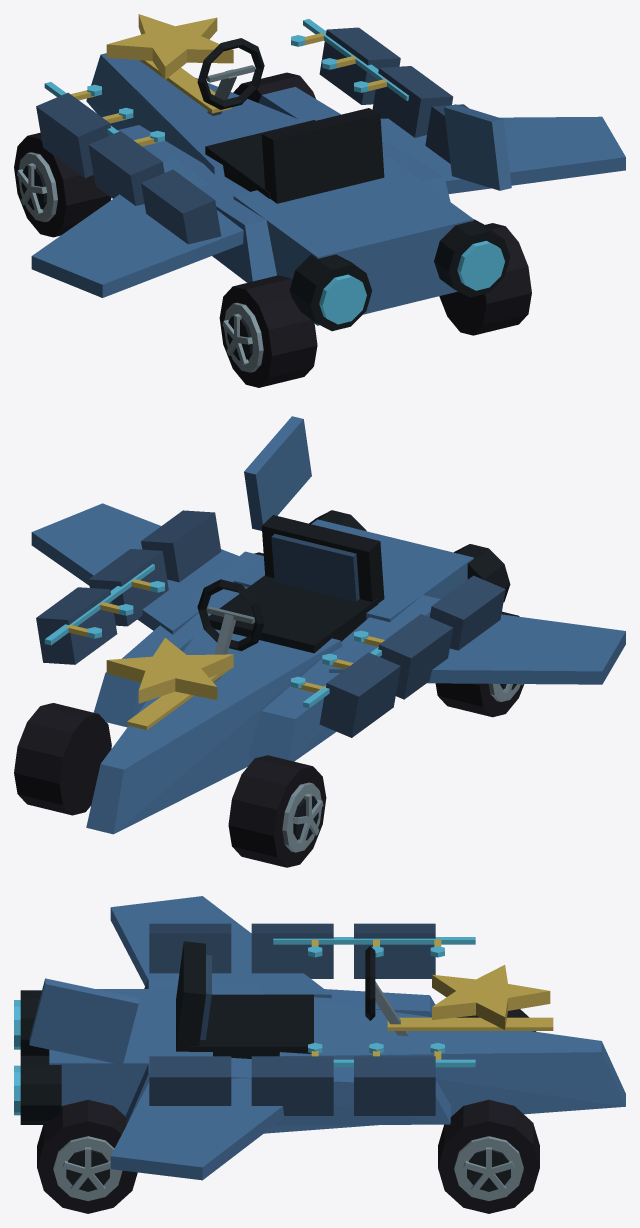
File: kart.glb
The picture shows the model from 3 angles, top to bottom: view 1: azimuth 30°, elevation 25°; view 2: azimuth 150°, elevation 25°; view 3: azimuth 270°, elevation 25°; orthographic projection. The views are drawn at different scales.
Parts seen in each view (by area): view 1: identity-starfighter-starfighter-flight-planform, identity-starfighter-motif-armor, identity-starfighter-driver-cockpit, wheel-rear-left, wheel-front-left, wheel-rear-right, identity-starfighter-motif-star, identity-starfighter-motif-circuit, wheel-front-right; view 2: identity-starfighter-starfighter-flight-planform, identity-starfighter-motif-armor, identity-starfighter-driver-cockpit, wheel-front-left, wheel-front-right, identity-starfighter-motif-star, identity-starfighter-motif-circuit, wheel-rear-left; view 3: identity-starfighter-starfighter-flight-planform, identity-starfighter-motif-armor, identity-starfighter-driver-cockpit, wheel-front-right, wheel-rear-right, identity-starfighter-motif-star, identity-starfighter-motif-circuit.
Boxes of the visible parts, left/top/right/bottom form: identity-starfighter-starfighter-flight-planform: left=31, top=53, right=625, bottom=331; identity-starfighter-motif-armor: left=36, top=27, right=468, bottom=244; identity-starfighter-driver-cockpit: left=197, top=38, right=384, bottom=203; wheel-rear-left: left=219, top=275, right=317, bottom=387; wheel-front-left: left=14, top=132, right=111, bottom=237; wheel-rear-right: left=439, top=223, right=531, bottom=335; identity-starfighter-motif-star: left=106, top=14, right=233, bottom=79; identity-starfighter-motif-circuit: left=44, top=19, right=408, bottom=146; wheel-front-right: left=233, top=72, right=315, bottom=102; identity-starfighter-starfighter-flight-planform: left=31, top=416, right=625, bottom=834; identity-starfighter-motif-armor: left=36, top=510, right=505, bottom=737; identity-starfighter-driver-cockpit: left=197, top=515, right=384, bottom=682; wheel-front-left: left=228, top=755, right=326, bottom=867; wheel-front-right: left=14, top=703, right=111, bottom=815; identity-starfighter-motif-star: left=106, top=638, right=233, bottom=703; identity-starfighter-motif-circuit: left=44, top=564, right=384, bottom=708; wheel-rear-left: left=435, top=611, right=524, bottom=717; identity-starfighter-starfighter-flight-planform: left=14, top=896, right=625, bottom=1180; identity-starfighter-motif-armor: left=149, top=923, right=435, bottom=1115; identity-starfighter-driver-cockpit: left=176, top=941, right=408, bottom=1058; wheel-front-right: left=438, top=1099, right=539, bottom=1213; wheel-rear-right: left=37, top=1099, right=137, bottom=1213; identity-starfighter-motif-star: left=432, top=965, right=550, bottom=1029; identity-starfighter-motif-circuit: left=273, top=937, right=475, bottom=1067.
Size of the model in its own units: 3.14 by 1.18 by 2.99.
